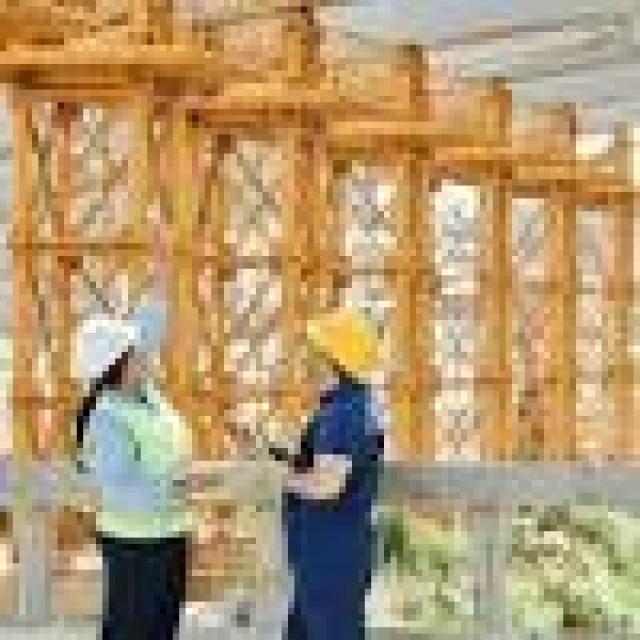Reflective-Jacket: (64, 378, 211, 550)
Safety-Helmet: (63, 306, 151, 406), (300, 306, 392, 388)
